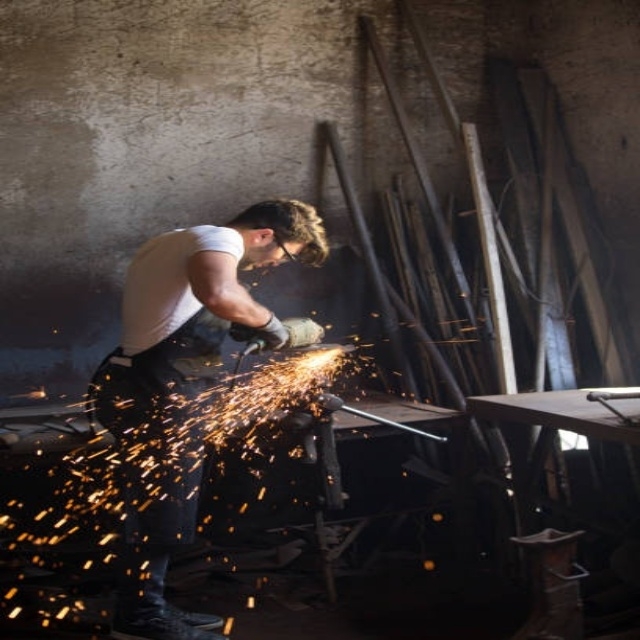Gafas: (273, 233, 298, 265)
Guantes: (232, 307, 292, 351)
Sin_mascara: (242, 250, 276, 274)
